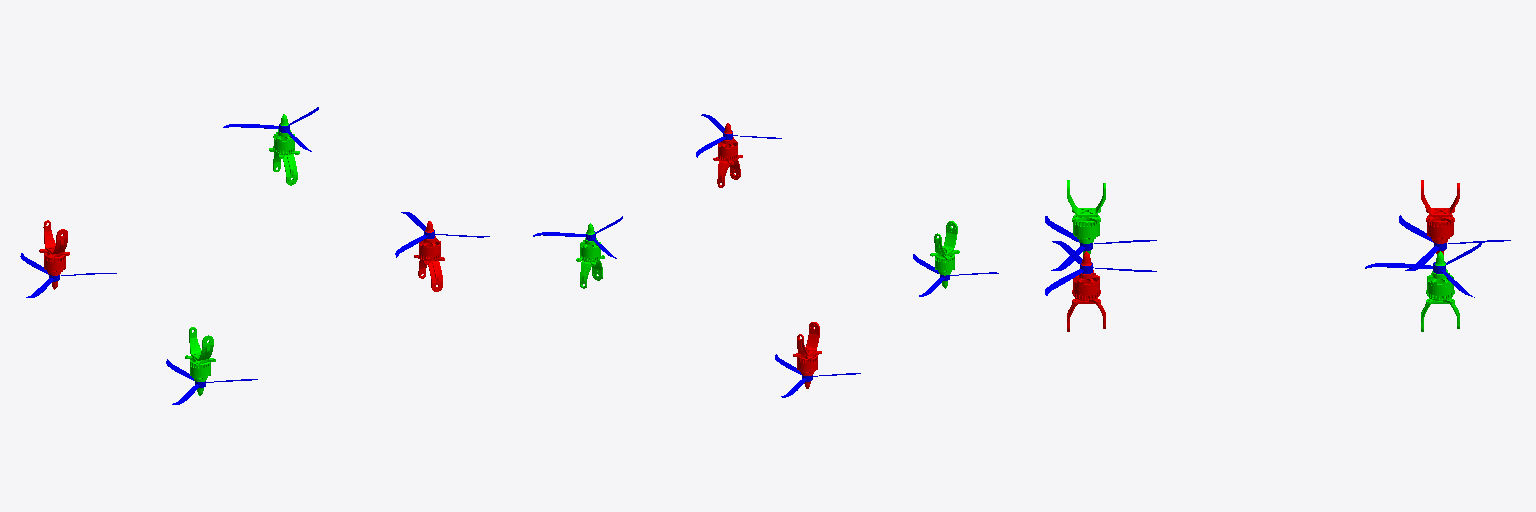
URDF robot description (quadtilt):
<?xml version="1.0" encoding="utf-8"?>
<robot name="quadtilt">
  <!-- ========================================== -->
  <!-- BASE LINK (含碰撞盒)                       -->
  <!-- ========================================== -->
  <link name="base_link">
    <inertial>
      <origin xyz="-0.12253 -0.0013173 -0.0057999" rpy="0 0 0" />
      <mass value="13.83" />
      <inertia ixx="0.086619" ixy="2.2852E-05" ixz="-0.00027792" iyy="0.13538" iyz="-9.9786E-06" izz="0.20791" />
    </inertial>
    <visual>
      <origin xyz="0 0 0" rpy="0 0 0" />
      <geometry><mesh filename="package://quadtilt/meshes/base_link.STL" /></geometry>
      <material name=""><color rgba="1 1 1 1" /></material>
    </visual>
    <!-- 碰撞盒：Box 替代 Mesh -->
    <collision>
      <origin xyz="-0.1 0 -0.15" rpy="0 0 0" />
      <geometry><box size="0.8 0.8 0.2" /></geometry>
    </collision>
  </link>
  <!-- ================= TILT 0 (前右) ================= -->
  <link name="tilt_0_Link">
    <inertial>
      <origin xyz="0.02 0 -0.02" rpy="0 0 0" />
      <mass value="0.1" />
      <inertia ixx="0.1" ixy="0" ixz="0" iyy="0.1" iyz="0" izz="0.1" />
    </inertial>
    <visual>
      <origin xyz="0 0 0" rpy="0 0 0" />
      <geometry><mesh filename="package://quadtilt/meshes/tilt_0_Link.STL" /></geometry>
      <material name=""><color rgba="1 0 0 1" /></material>
    </visual>
    <collision>
      <origin xyz="0 0 0" rpy="0 0 0" />
      <geometry><mesh filename="package://quadtilt/meshes/tilt_0_Link.STL" /></geometry>
    </collision>
  </link>
  <joint name="tilt_0" type="revolute">
    <origin xyz="0.21395 -0.26061 -0.04345" rpy="1.5708 -1.5708 0" />
    <parent link="base_link" />
    <child link="tilt_0_Link" />
    <axis xyz="0 0 -1" />
    <limit lower="-1.57" upper="1.57" effort="10" velocity="2.0" />
  </joint>
  <link name="properller_0_Link">
    <inertial>
      <origin xyz="0 0 0" rpy="0 0 0" />
      <mass value="0.005" />
      <inertia ixx="1e-5" ixy="0" ixz="0" iyy="1e-5" iyz="0" izz="1e-5" />
    </inertial>
    <visual>
      <origin xyz="0 0 0" rpy="0 0 0" />
      <geometry><mesh filename="package://quadtilt/meshes/properller_0_Link.STL" /></geometry>
      <material name=""><color rgba="0 0 1 1" /></material>
    </visual>
    <collision>
      <origin xyz="0 0 0" rpy="0 0 0" />
      <geometry><mesh filename="package://quadtilt/meshes/properller_0_Link.STL" /></geometry>
    </collision>
  </link>
  <joint name="properller_0" type="continuous">
    <origin xyz="0.07705 0 -0.0255" rpy="-1.5708 0 -1.5708" />
    <parent link="tilt_0_Link" />
    <child link="properller_0_Link" />
    <axis xyz="0 0 1" />
  </joint>
  <!-- ================= TILT 1 (后左) ================= -->
  <link name="tilt_1_Link">
    <inertial>
      <origin xyz="0.02 0 -0.02" rpy="0 0 0" />
      <mass value="0.1" />
      <inertia ixx="0.1" ixy="0" ixz="0" iyy="0.1" iyz="0" izz="0.1" />
    </inertial>
    <visual>
      <origin xyz="0 0 0" rpy="0 0 0" />
      <geometry><mesh filename="package://quadtilt/meshes/tilt_1_Link.STL" /></geometry>
      <material name=""><color rgba="1 0 0 1" /></material>
    </visual>
    <collision>
      <origin xyz="0 0 0" rpy="0 0 0" />
      <geometry><mesh filename="package://quadtilt/meshes/tilt_1_Link.STL" /></geometry>
    </collision>
  </link>
  <joint name="tilt_1" type="revolute">
    <origin xyz="-0.21395 0.2094 -0.04345" rpy="1.5708 1.5708  0" />
    <parent link="base_link" />
    <child link="tilt_1_Link" />
    <axis xyz="0 0 -1" />
    <limit lower="-1.57" upper="1.57" effort="10" velocity="2.0" />
  </joint>
  <link name="properller_1_Link">
    <inertial>
      <origin xyz="0 0 0" rpy="0 0 0" />
      <mass value="0.005" />
      <inertia ixx="1e-5" ixy="0" ixz="0" iyy="1e-5" iyz="0" izz="1e-5" />
    </inertial>
    <visual>
      <origin xyz="0 0 0" rpy="0 0 0" />
      <geometry><mesh filename="package://quadtilt/meshes/properller_1_Link.STL" /></geometry>
      <material name=""><color rgba="0 0 1 1" /></material>
    </visual>
    <collision>
      <origin xyz="0 0 0" rpy="0 0 0" />
      <geometry><mesh filename="package://quadtilt/meshes/properller_1_Link.STL" /></geometry>
    </collision>
  </link>
  <joint name="properller_1" type="continuous">
    <origin xyz="0.07705 0 -0.02573" rpy="1.5708 0 -1.5708" />
    <parent link="tilt_1_Link" />
    <child link="properller_1_Link" />
    <axis xyz="0 0 1" />
  </joint>
  <!-- ================= TILT 2 (前左 - 视觉修正) ================= -->
  <link name="tilt_2_Link">
    <inertial>
      <origin xyz="0.02 0 -0.02" rpy="0 0 0" />
      <mass value="0.1" />
      <inertia ixx="0.1" ixy="0" ixz="0" iyy="0.1" iyz="0" izz="0.1" />
    </inertial>
    <visual>
      <!-- 如果之前有偏移，请在这里的 xyz 填入你刚才调试好的数值 -->
      <origin xyz="0 0 0" rpy="0 0 0" />
      <geometry><mesh filename="package://quadtilt/meshes/tilt_2_Link.STL" /></geometry>
      <material name=""><color rgba="0 1 0 1" /></material>
    </visual>
    <!-- <collision>
      <origin xyz="0 0 0" rpy="0 0 0" />
      <geometry><mesh filename="package://quadtilt/meshes/tilt_2_Link.STL" /></geometry>
    </collision> -->
  </link>
  <joint name="tilt_2" type="revolute">
    <origin xyz="0.21395 0.2094 -0.04345" rpy="1.5708 -1.5708 0" />
    <parent link="base_link" />
    <child link="tilt_2_Link" />
    <axis xyz="0 0 -1" />
    <limit lower="-1.57" upper="1.57" effort="10" velocity="2.0" />
  </joint>
  <link name="properller_2_Link">
    <inertial>
      <origin xyz="0 0 0" rpy="0 0 0" />
      <mass value="0.005" />
      <inertia ixx="1e-5" ixy="0" ixz="0" iyy="1e-5" iyz="0" izz="1e-5" />
    </inertial>
    <visual>
      <!-- 修正螺旋桨视觉方向 -->
      <origin xyz="0 0 0" rpy="0 0 0" />
      <geometry><mesh filename="package://quadtilt/meshes/properller_2_Link.STL" /></geometry>
      <material name=""><color rgba="0 0 1 1" /></material>
    </visual>
    <collision>
      <origin xyz="0 0 0" rpy="0 0 0" />
      <geometry><mesh filename="package://quadtilt/meshes/properller_2_Link.STL" /></geometry>
    </collision>
  </link>
  <joint name="properller_2" type="continuous">
    <origin xyz="0.077 0 -0.025" rpy="-1.5708 0 -1.5708" />
    <parent link="tilt_2_Link" />
    <child link="properller_2_Link" />
    <axis xyz="0 0 1" />
  </joint>

  <!-- ================= TILT 3 (后右 - 视觉修正) ================= -->
  <link name="tilt_3_Link">
    <inertial>
      <origin xyz="0.02 0 -0.02" rpy="0 0 0" />
      <mass value="0.1" />
      <inertia ixx="0.1" ixy="0" ixz="0" iyy="0.1" iyz="0" izz="0.1" />
    </inertial>
    <visual>
      <!-- 如果之前有偏移，请在这里的 xyz 填入你刚才调试好的数值 -->
      <origin xyz="0 0 0" rpy="0 0 0" />
      <geometry><mesh filename="package://quadtilt/meshes/tilt_3_Link.STL" /></geometry>
      <material name=""><color rgba="0 1 0 1" /></material>
    </visual>
    <collision>
      <origin xyz="0 0 0" rpy="0 0 0" />
      <geometry><mesh filename="package://quadtilt/meshes/tilt_3_Link.STL" /></geometry>
    </collision>
  </link>
  <joint name="tilt_3" type="revolute">
    <origin xyz="-0.21395 -0.26061 -0.04345" rpy="1.5708 1.5708 0" />
    <parent link="base_link" />
    <child link="tilt_3_Link" />
    <axis xyz="0 0 -1" />
    <limit lower="-1.57" upper="1.57" effort="10" velocity="2.0" />
  </joint>
  <link name="properller_3_Link">
    <inertial>
      <origin xyz="0 0 0" rpy="0 0 0" />
      <mass value="0.005" />
      <inertia ixx="1e-5" ixy="0" ixz="0" iyy="1e-5" iyz="0" izz="1e-5" />
    </inertial>
    <visual>
      <!-- 修正螺旋桨视觉方向 -->
      <origin xyz="0 0 0" rpy="0 0 0" />
      <geometry><mesh filename="package://quadtilt/meshes/properller_3_Link.STL" /></geometry>
      <material name=""><color rgba="0 0 1 1" /></material>
    </visual>
    <collision>
      <origin xyz="0 0 0" rpy="0 0 0" />
      <geometry><mesh filename="package://quadtilt/meshes/properller_3_Link.STL" /></geometry>
    </collision>
  </link>
  <!-- 修正：Prop 3 轴向修正为 -1 -->
  <joint name="properller_3" type="continuous">
    <origin xyz="0.077 0 -0.025" rpy="1.5708 0 -1.5708" />
    <parent link="tilt_3_Link" />
    <child link="properller_3_Link" />
    <axis xyz="0 0 1" /> 
  </joint>
  <!-- ========================================== -->
  <!-- GAZEBO 专属配置 (解决滑动问题)              -->
  <!-- ========================================== -->
  <gazebo reference="base_link">
    <!-- mu1/mu2: 摩擦系数 (100非常大，相当于橡胶轮胎) -->
    <mu1>100.0</mu1>
    <mu2>50.0</mu2>
    <!-- kp/kd: 接触刚度和阻尼，防止接触抖动 -->
    <kp>1000000.0</kp>
    <kd>1.0</kd>
    <!-- maxVel: 限制接触修正速度，防止反弹 -->
    <maxVel>0.1</maxVel>
    <minDepth>0.001</minDepth>
  </gazebo>
</robot>

--- What the picture shows (computed from the rendered views, not written in the file) ---
The picture shows the robot from 3 angles, left to right: view 1: azimuth 30°, elevation 25°; view 2: azimuth 150°, elevation 25°; view 3: azimuth 270°, elevation 25°; orthographic projection.
Model quadtilt with 9 links and 8 joints (4 revolute, 4 continuous), rooted at base_link, posed every joint at zero.
Visible links, largest first — view 1: tilt_0_Link, tilt_1_Link, tilt_3_Link, tilt_2_Link; view 2: tilt_3_Link, tilt_1_Link, tilt_0_Link, tilt_2_Link; view 3: tilt_0_Link, tilt_3_Link, tilt_1_Link, tilt_2_Link, properller_2_Link, properller_0_Link, properller_3_Link, properller_1_Link.
Link boxes in pixels (x1,y1,x2,y2): tilt_0_Link: (414,221,444,291); tilt_1_Link: (39,220,69,289); tilt_3_Link: (185,327,215,395); tilt_2_Link: (269,114,299,185); tilt_3_Link: (930,221,959,288); tilt_1_Link: (793,322,821,388); tilt_0_Link: (713,123,742,187); tilt_2_Link: (576,223,604,288); tilt_0_Link: (1067,251,1105,331); tilt_3_Link: (1067,180,1105,254); tilt_1_Link: (1421,180,1459,254); tilt_2_Link: (1421,251,1459,331); properller_2_Link: (1365,243,1481,297); properller_0_Link: (1045,241,1156,295); properller_3_Link: (1045,216,1156,270); properller_1_Link: (1399,215,1510,270).
Size in the robot's own frame: 0.6009 by 0.6258 by 0.2134 metres.
Meshes: 9 distinct files referenced, 8 mesh visuals loaded (8 binary STL); not drawn: 1 (reference not matched to a file when rendering).
